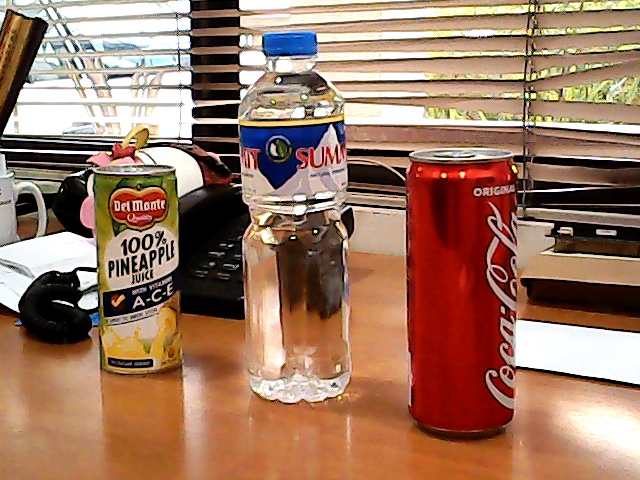Cola: (397, 138, 536, 456)
Pine Juice: (91, 162, 193, 387)
Summit Water: (229, 24, 361, 416)
